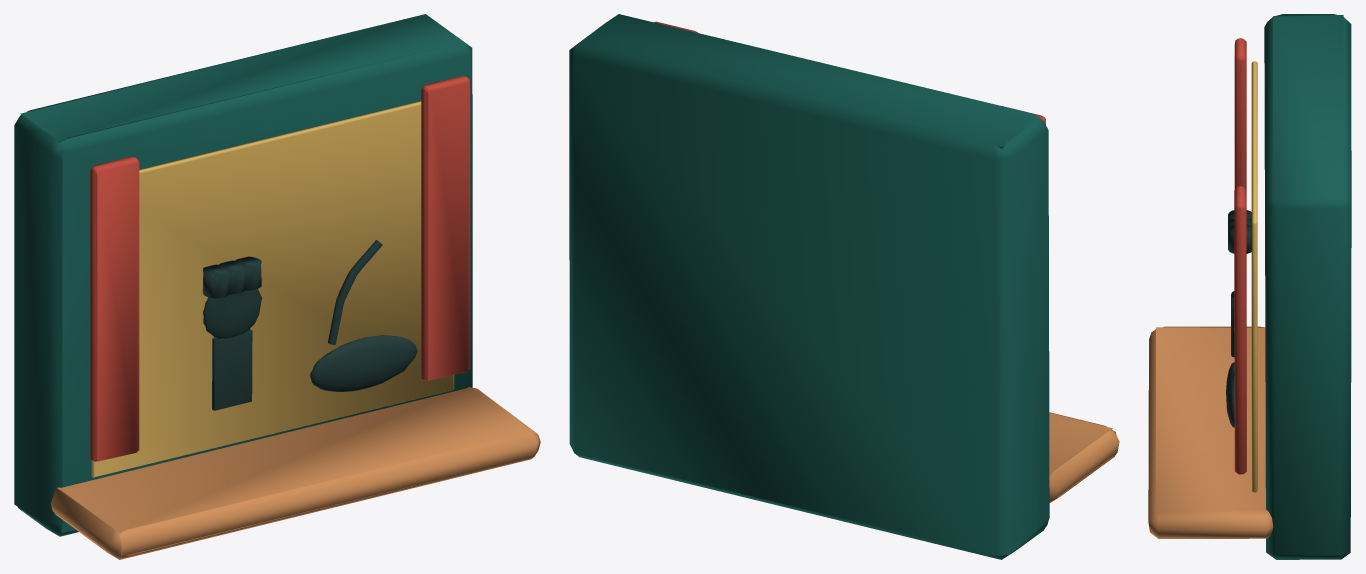
The picture shows the model from 3 angles, left to right: view 1: azimuth 30°, elevation 25°; view 2: azimuth 150°, elevation 25°; view 3: azimuth 270°, elevation 25°; orthographic projection. The views are drawn at different scales.
Visible parts, largest first — view 1: Shadow stage, Theatre frame, Stage lip, Velvet curtain, Shadow chef head, Noodle bowl; view 2: Theatre frame, Stage lip; view 3: Theatre frame, Stage lip, Velvet curtain, Shadow stage, Noodle bowl, Shadow chef head.
Part boxes in pixels (<box>): Shadow stage: <box>91,101,454,477</box>; Theatre frame: <box>14,14,472,536</box>; Stage lip: <box>50,387,540,559</box>; Velvet curtain: <box>90,75,470,461</box>; Shadow chef head: <box>202,256,261,410</box>; Noodle bowl: <box>310,240,417,391</box>; Theatre frame: <box>569,14,1049,559</box>; Stage lip: <box>1049,412,1119,502</box>; Theatre frame: <box>1264,14,1351,559</box>; Stage lip: <box>1148,326,1273,538</box>; Velvet curtain: <box>1234,38,1246,474</box>; Shadow stage: <box>1251,61,1257,492</box>; Noodle bowl: <box>1226,291,1234,427</box>; Shadow chef head: <box>1228,210,1251,253</box>.
Size of the model in its own units: 0.8065 by 0.7135 by 0.3597.
